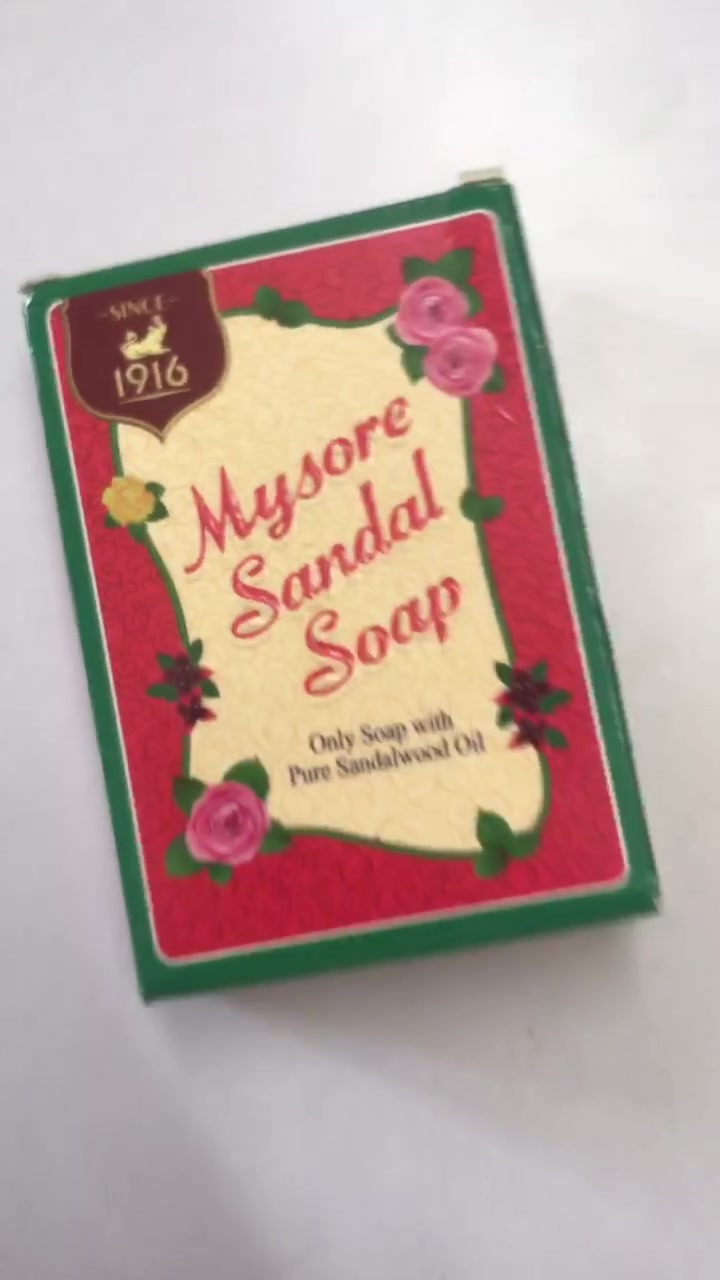mysore sandal soap: (17, 187, 659, 996)
